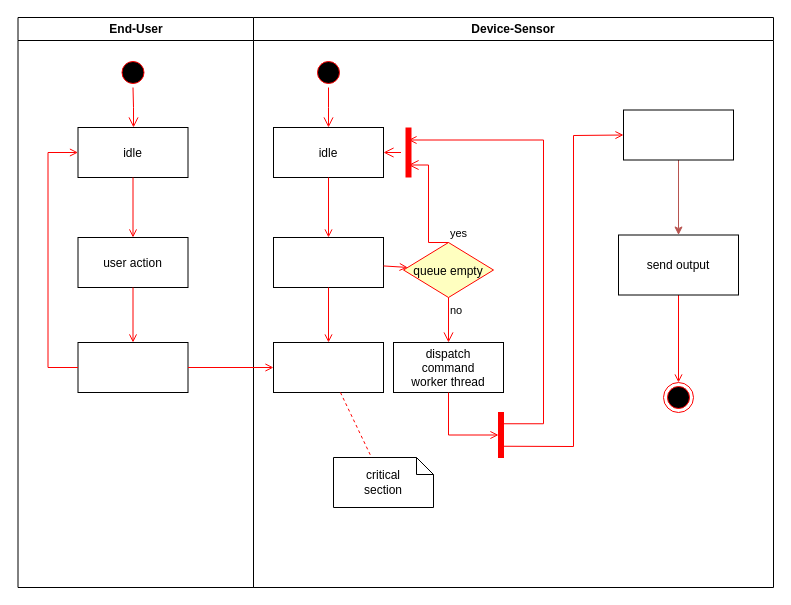
Some shapes in this 791 by 605 pixel diagram are drawn without their labels. The centre of each missing label's shape, as x and y in pixels:
check for new commands: pixel 328 262
command queue: pixel 328 367
post command / activation: pixel 132 367
process command: pixel 678 134
